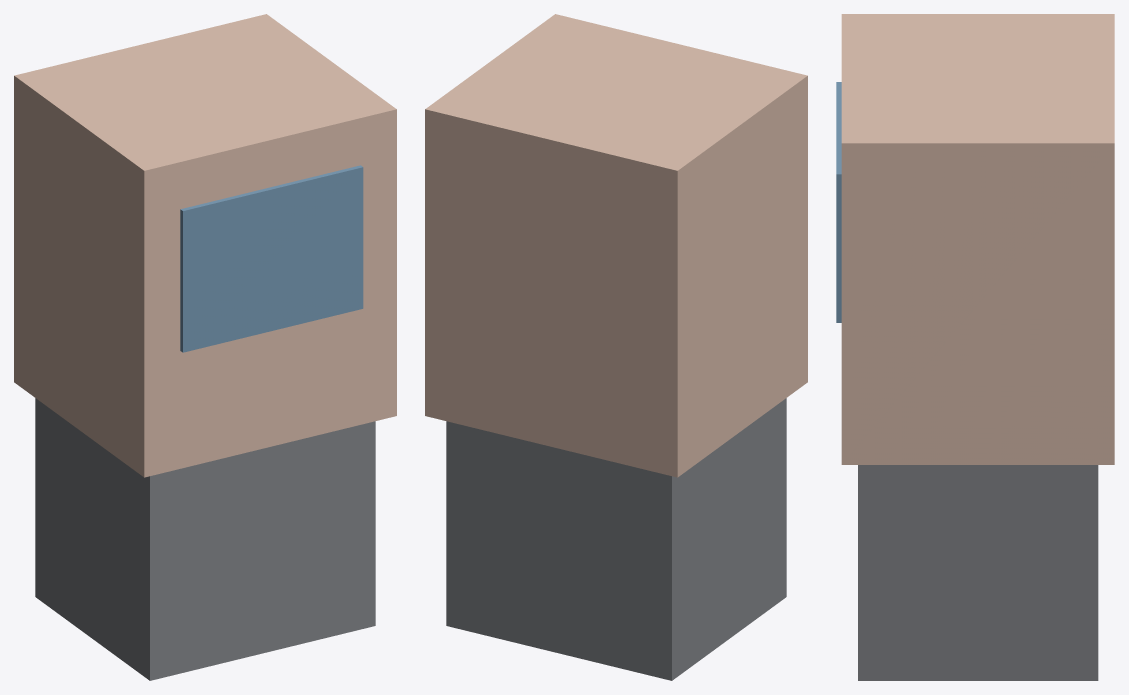
Rendered from news_box.glb.
3 renders of one model, left to right at view 1: azimuth 30°, elevation 25°; view 2: azimuth 150°, elevation 25°; view 3: azimuth 270°, elevation 25°, orthographic. The views are drawn at different scales.
Visible parts, largest first — view 1: news_box; view 2: news_box; view 3: news_box.
Boxes of the visible parts, box(x1,y1,x2,y2) form: news_box: box(14, 14, 396, 680); news_box: box(425, 14, 807, 680); news_box: box(836, 14, 1114, 680).
Bounding box in the file's own units: 0.56 × 1.1 × 0.51.
